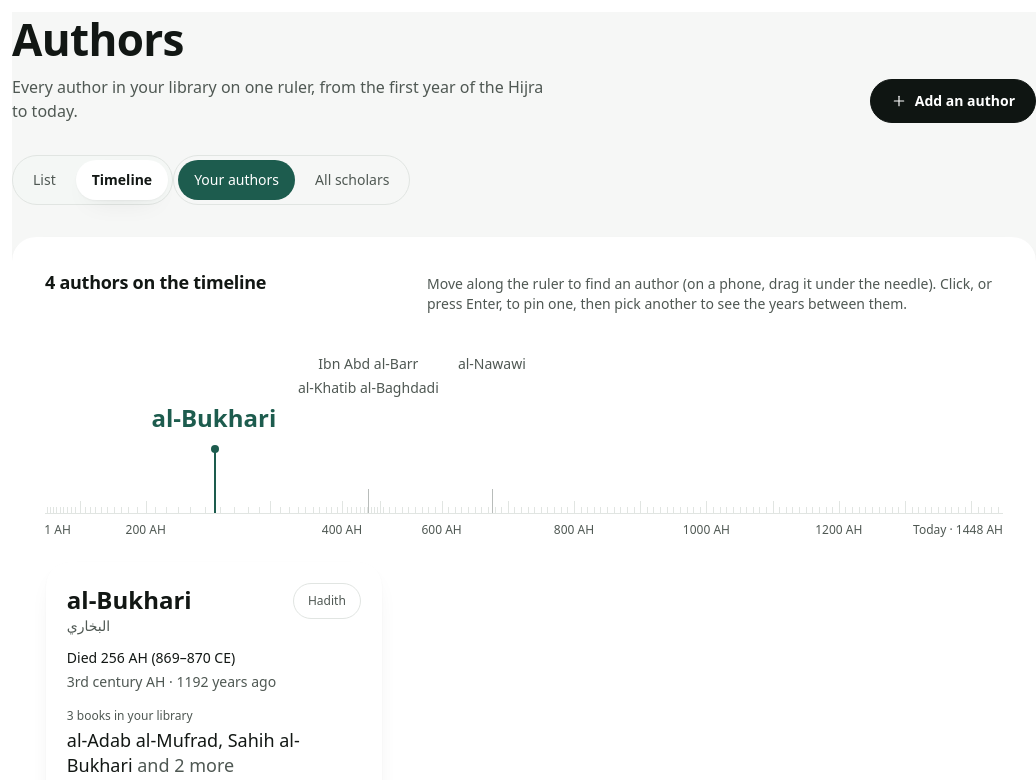
Test case: AuthorTimelinePage › All scholars (the general timeline) › goes back to your authors only
Expected: the heading "4 authors on the timeline" is shown, 45,270 -> 266,295
Click the button "All scholars". click: {"x": 352, "y": 180}
box: 299,160 -> 405,200
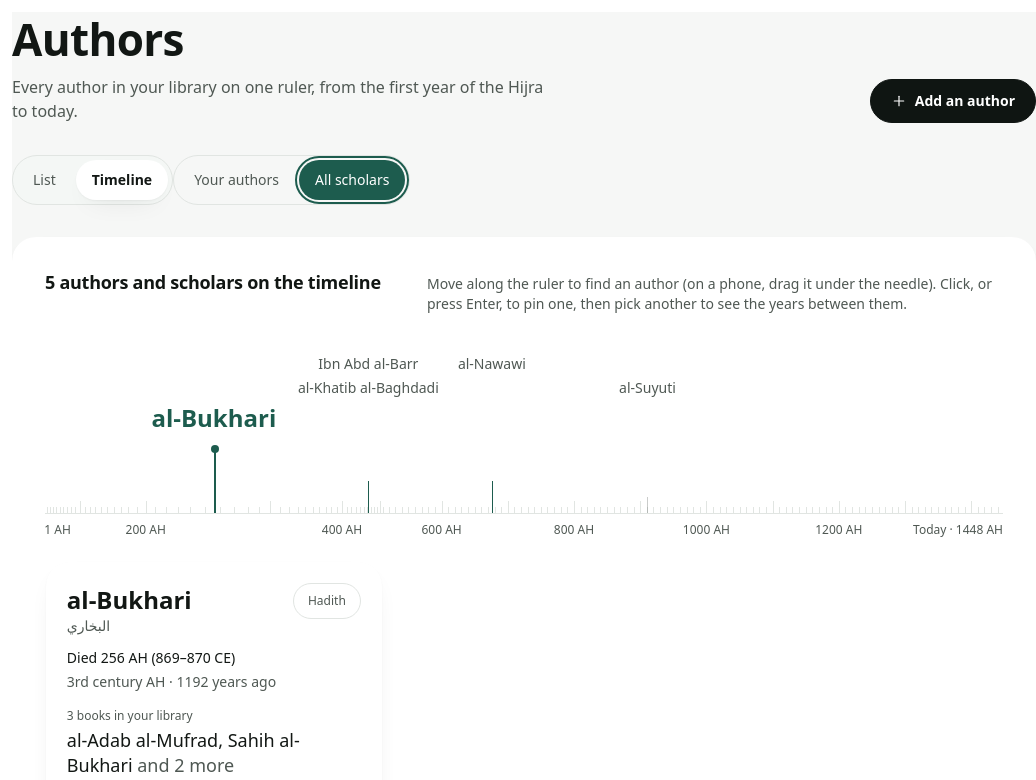
Result: the heading "5 authors and scholars on the timeline" is shown at 45,270 -> 381,295
Click the button "Your authors". click: {"x": 237, "y": 180}
box: 178,160 -> 295,200
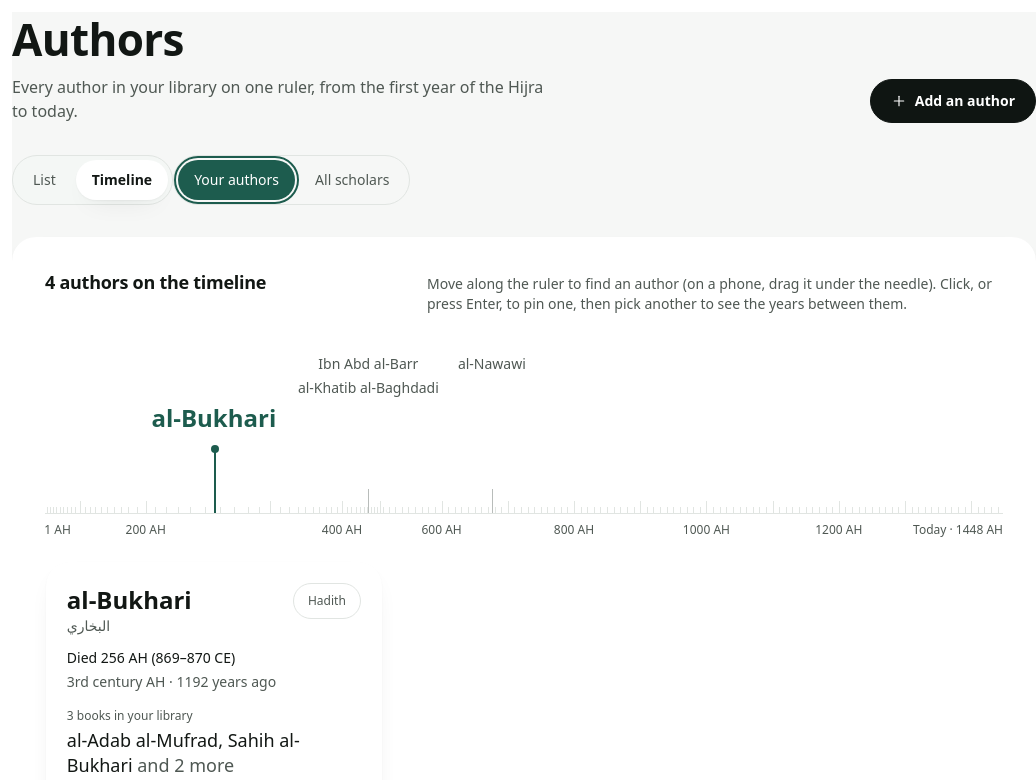
Result: the heading "4 authors on the timeline" is shown at 45,270 -> 266,295
